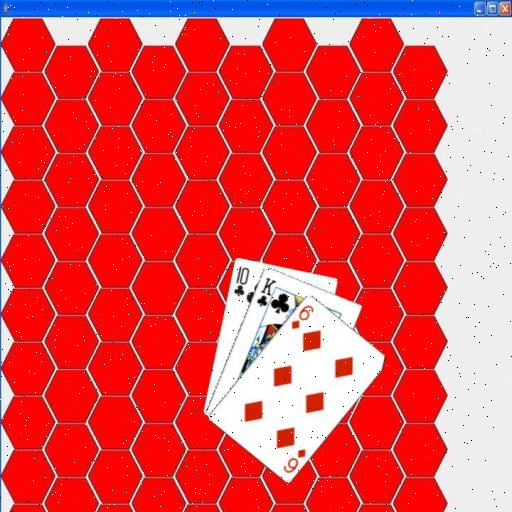10C: (231, 263, 251, 298)
6D: (288, 302, 315, 331), (280, 445, 307, 474)
KC: (253, 274, 279, 313)
